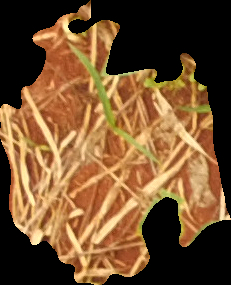soil: (2, 2, 230, 284)
